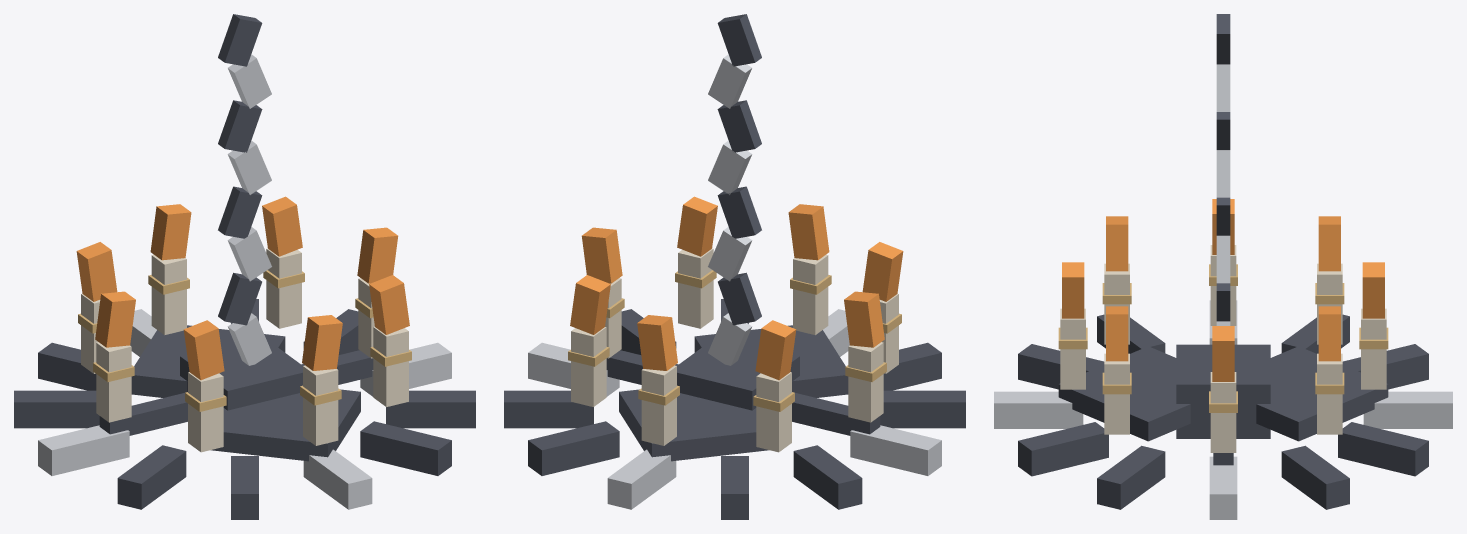
The model's file is candle_chandelier.glb.
3 renders of one model, left to right at view 1: azimuth 30°, elevation 25°; view 2: azimuth 150°, elevation 25°; view 3: azimuth 270°, elevation 25°, orthographic.
Visible parts, largest first — view 1: Moonpost Candle Chandelier; view 2: Moonpost Candle Chandelier; view 3: Moonpost Candle Chandelier.
Boxes of the visible parts, <box> form: Moonpost Candle Chandelier: <box>14,14,475,519</box>; Moonpost Candle Chandelier: <box>504,14,965,519</box>; Moonpost Candle Chandelier: <box>994,14,1452,519</box>.
Size of the model in its own units: 5.34 by 5.2 by 5.34.
